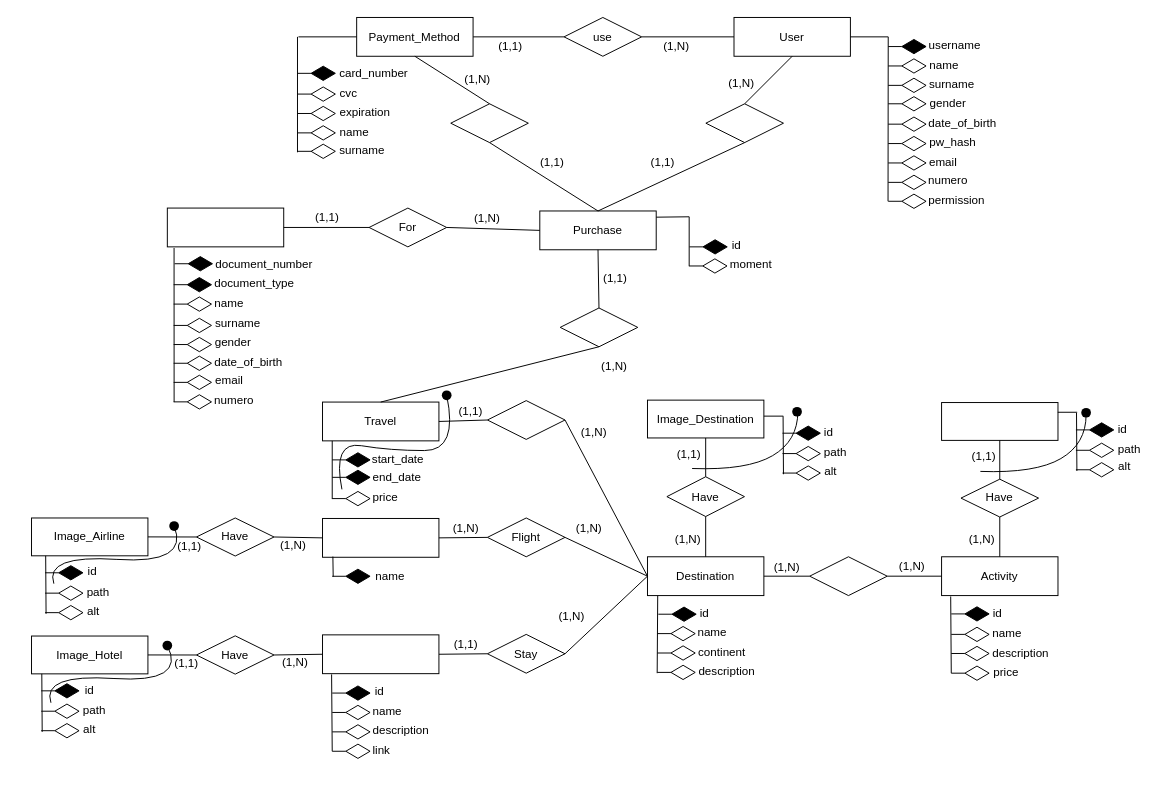
The diagram is 1176 pixels wide and 793 high, and some of its shapes have lost their labels. The box of each missing label's shape, as (x1, y1, x2, y2) in pixels:
Airline: (322, 517, 439, 557)
Do: (809, 556, 887, 596)
Hotel: (322, 634, 439, 674)
Image_Activity: (941, 402, 1058, 440)
Of: (559, 307, 638, 347)
On: (486, 400, 565, 439)
Partecipant: (166, 207, 284, 247)
Through: (450, 103, 528, 143)
Want: (705, 103, 783, 143)
